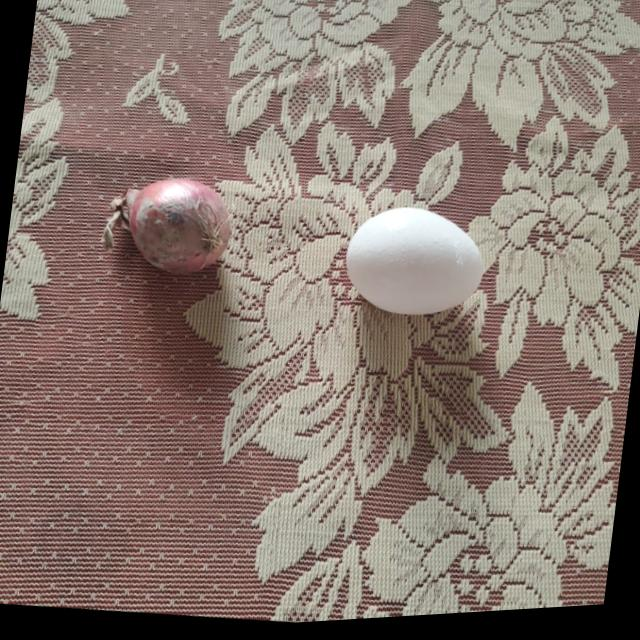egg: (342, 204, 490, 329)
onion: (117, 170, 236, 281)
